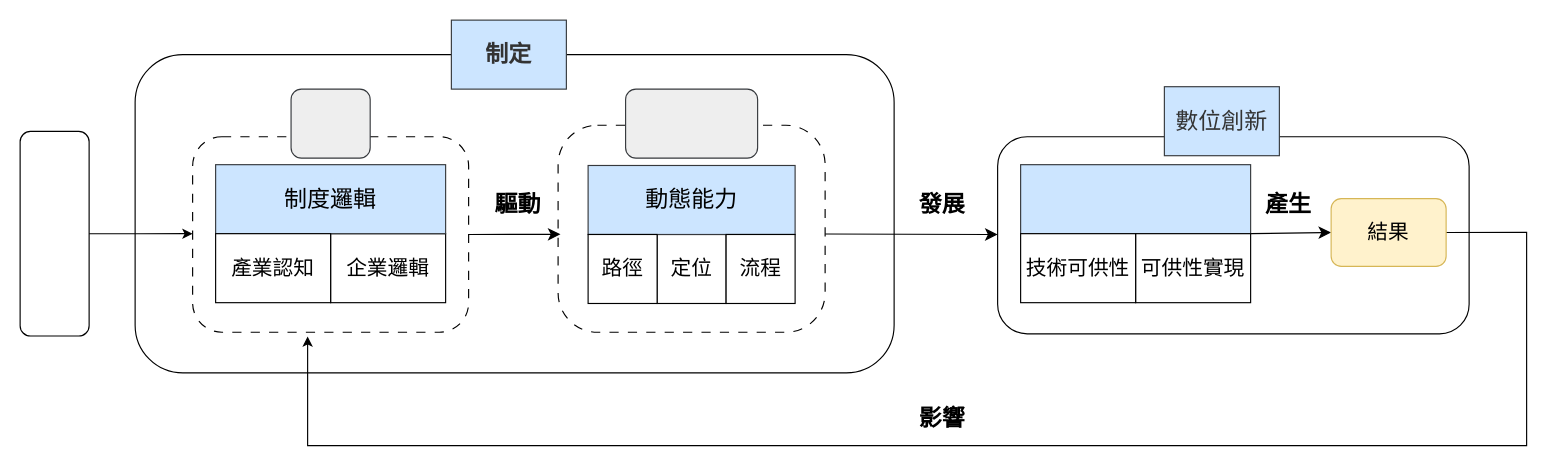
Image size: 1556x475. Some labels were removed from this diagram. The shapes that lost their labels are listed below. From the top down, each one's centre as x and y in pixels, then its label:
(x=330, y=123): 認知
(x=691, y=123): 資源整合 行動
(x=1135, y=199): 科技可供性
(x=54, y=233): 環 境
